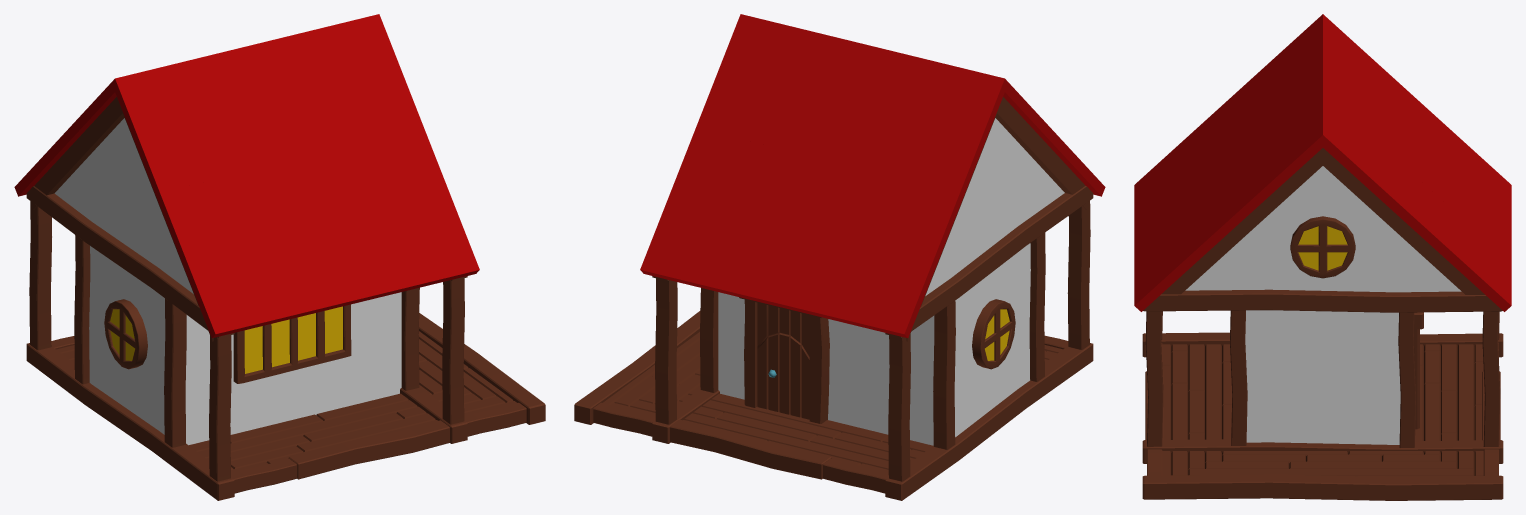
The model's file is Full_House_10.fbx.
3 renders of one model, left to right at view 1: azimuth 30°, elevation 25°; view 2: azimuth 150°, elevation 25°; view 3: azimuth 270°, elevation 25°, orthographic. The views are drawn at different scales.
Visible parts, largest first — view 1: Roof_Edge_6, Roof_Edge5, Roof_Edge_no9, Roof_Middle21, Roof_Edge_no_10, Wood_Floor_LOD0, Wall_small11, Roof_Base28, Wall_small13, Window_Large, Beam15, Beam17 (+19 smaller); view 2: Roof_Edge, Roof_Edge_1, Roof_Edge_no_1, Roof_Middle, Roof_Edge_no, Wood_Floor_LOD0, Roof_Base, Wall_small13, Wall_small14, Wood_Door_LOD0, Beam15, Beam17 (+20 smaller); view 3: Wood_Floor_LOD0, Wall_small12, Beam18, Roof_Edge_1, Roof_Edge5, Roof_Edge_no, Roof_Edge_no_10, Beam16, Roof_Edge_6, Roof_Edge, Wall_small_origin112, Wall_small_origin113 (+17 smaller).
Boxes of the visible parts, x1,y1,x2,y2 form: Roof_Edge_6: [160, 170, 308, 341]; Roof_Edge5: [331, 128, 479, 296]; Roof_Edge_no9: [115, 56, 252, 226]; Roof_Middle21: [253, 151, 386, 315]; Roof_Edge_no_10: [286, 14, 423, 150]; Wood_Floor_LOD0: [56, 331, 516, 472]; Wall_small11: [253, 292, 401, 429]; Roof_Base28: [208, 37, 330, 169]; Wall_small13: [89, 246, 165, 434]; Window_Large: [233, 304, 351, 383]; Beam15: [26, 343, 234, 500]; Beam17: [26, 186, 234, 338]; Roof_Edge: [811, 170, 959, 341]; Roof_Edge_1: [640, 128, 788, 296]; Roof_Edge_no_1: [867, 56, 1004, 226]; Roof_Middle: [733, 151, 866, 315]; Roof_Edge_no: [696, 14, 833, 150]; Wood_Floor_LOD0: [603, 332, 1062, 472]; Roof_Base: [789, 37, 911, 169]; Wall_small13: [954, 243, 1030, 437]; Wall_small14: [718, 292, 866, 429]; Wood_Door_LOD0: [757, 302, 809, 419]; Beam15: [885, 343, 1093, 500]; Beam17: [885, 186, 1093, 338]; Wood_Floor_LOD0: [1162, 344, 1483, 476]; Wall_small12: [1245, 310, 1400, 444]; Beam18: [1142, 474, 1503, 500]; Roof_Edge_1: [1407, 169, 1511, 317]; Roof_Edge5: [1134, 169, 1238, 317]; Roof_Edge_no: [1323, 92, 1407, 241]; Roof_Edge_no_10: [1238, 92, 1322, 241]; Beam16: [1143, 289, 1502, 312]; Roof_Edge_6: [1134, 91, 1238, 227]; Roof_Edge: [1407, 91, 1511, 227]; Wall_small_origin112: [1323, 219, 1407, 292]; Wall_small_origin113: [1238, 219, 1322, 290].
Size of what is drawn, in the model's own units: 0.0431 by 0.0438 by 0.0448.
